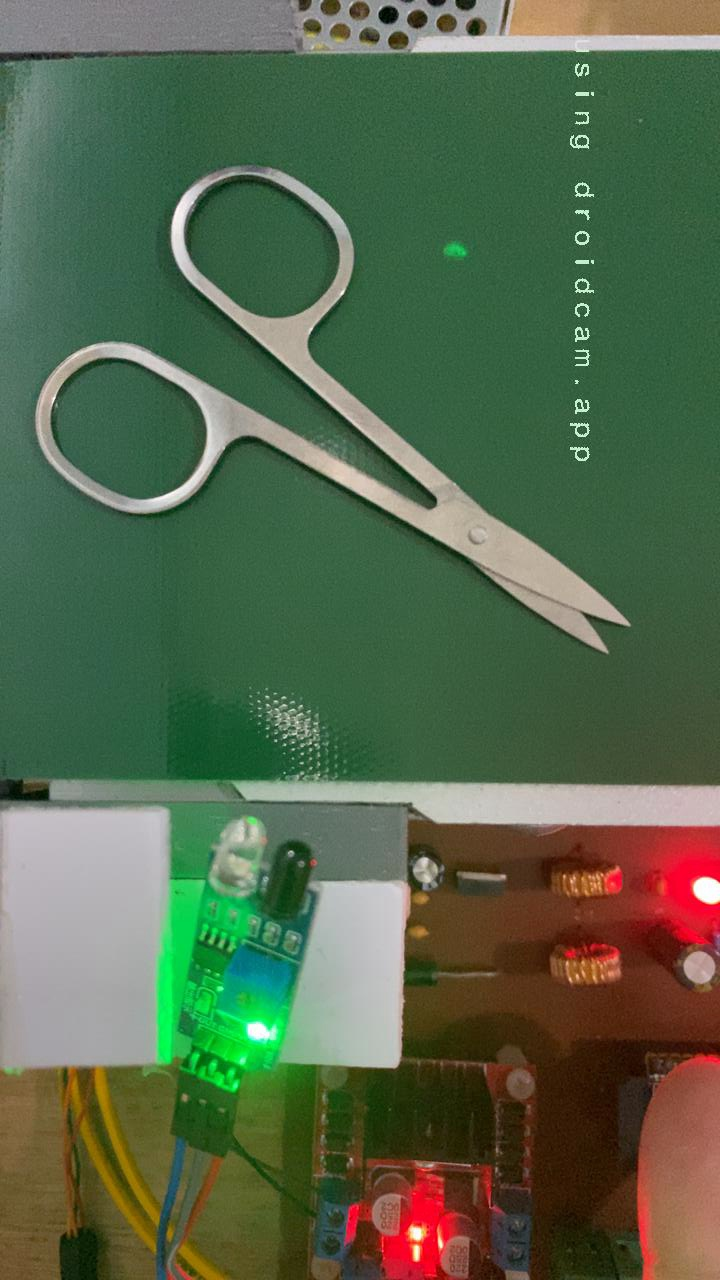scissor: (28, 159, 638, 660)
